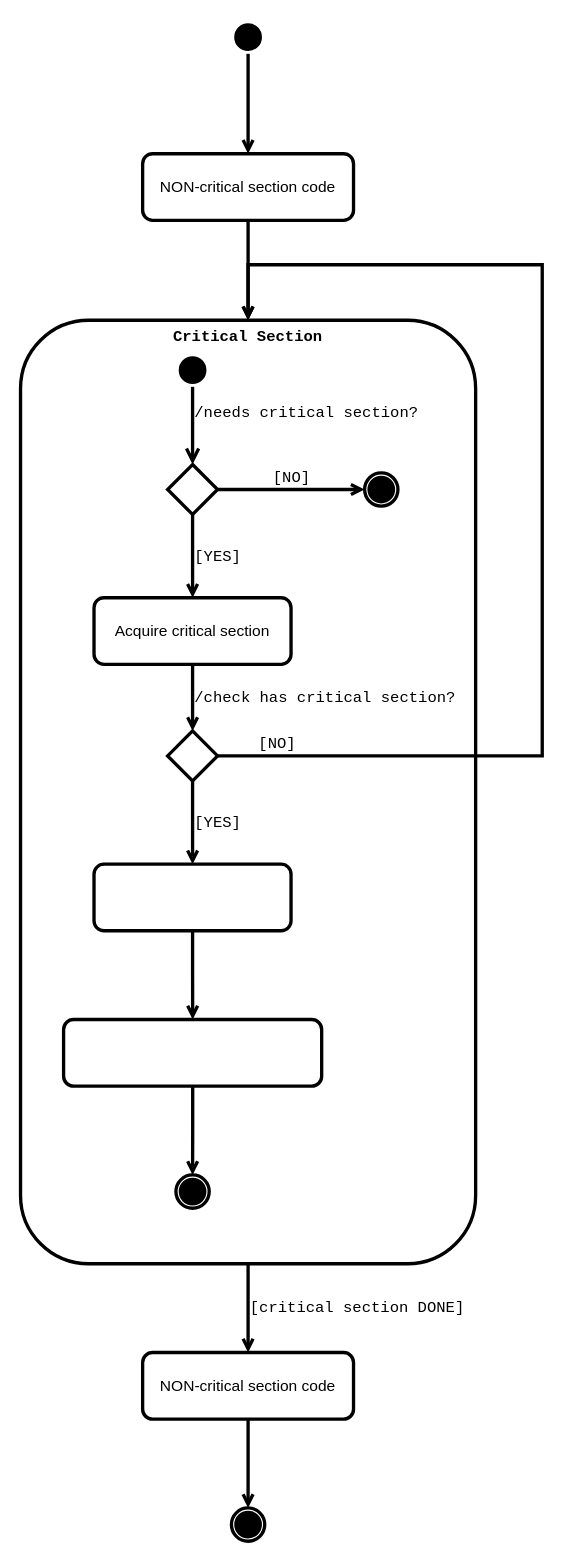
This 572x1562 diagram has some shape labels left out. The shapes that lost their labels are listed below. From the top down, each one's box as (x1, y1, x2, y2) in pixels, then its label:
(92, 862, 292, 932): Execute critical section
(61, 1017, 323, 1087): Mark critical section as DONE
